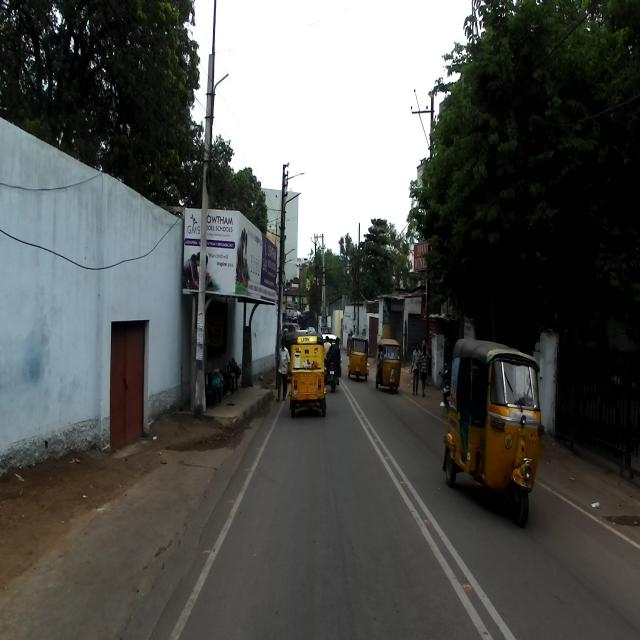autorickshaw: (442, 336, 544, 528), (288, 325, 328, 418)
